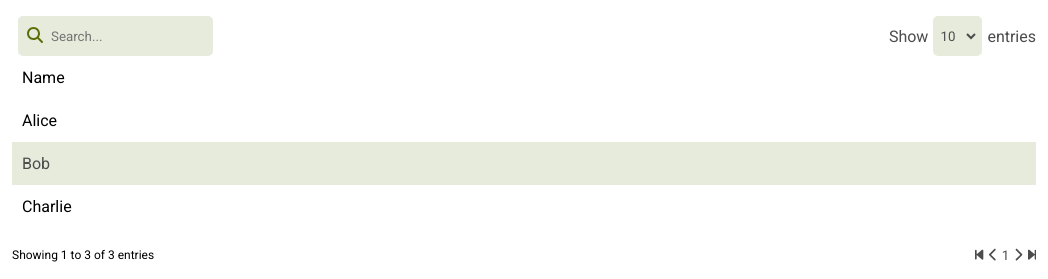
Test: When I click the sort button, then the table sorts the data
// Simulate clicking the sort column
Click the column heading with test id "sort-column-name" at (43, 78), box [12, 56, 1036, 99]
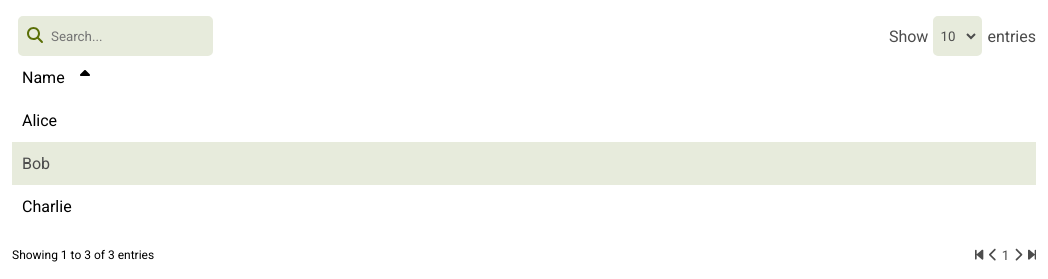
Expected: the text "Alice" is shown, [12, 99, 1036, 142]
// Simulate clicking again to reverse the sort order
Click the column heading with test id "sort-column-name" at (43, 78), box [12, 56, 1036, 99]
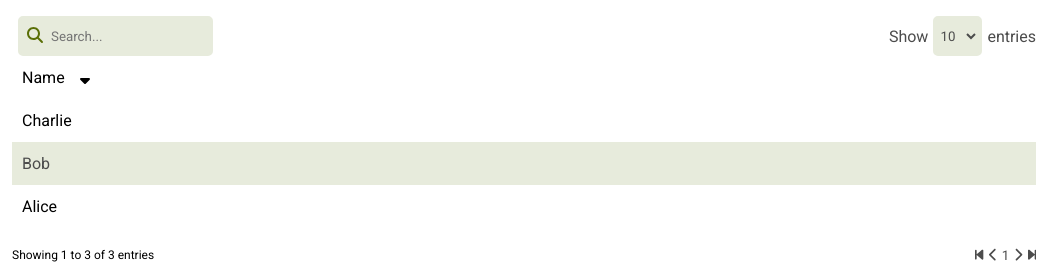
Expected: the text "Charlie" is shown, [12, 99, 1036, 142]
